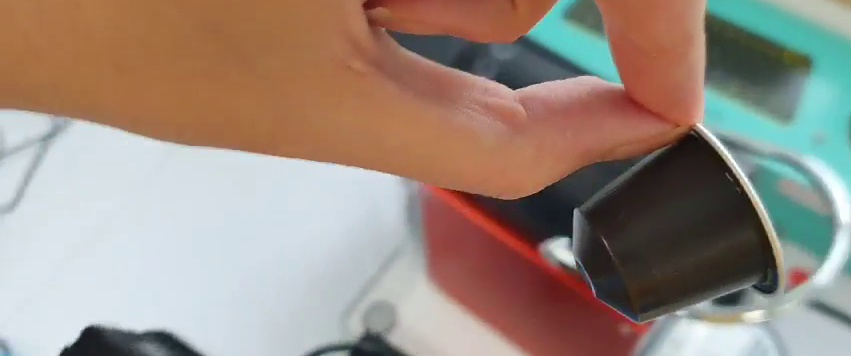capsule_4: (571, 116, 789, 325)
